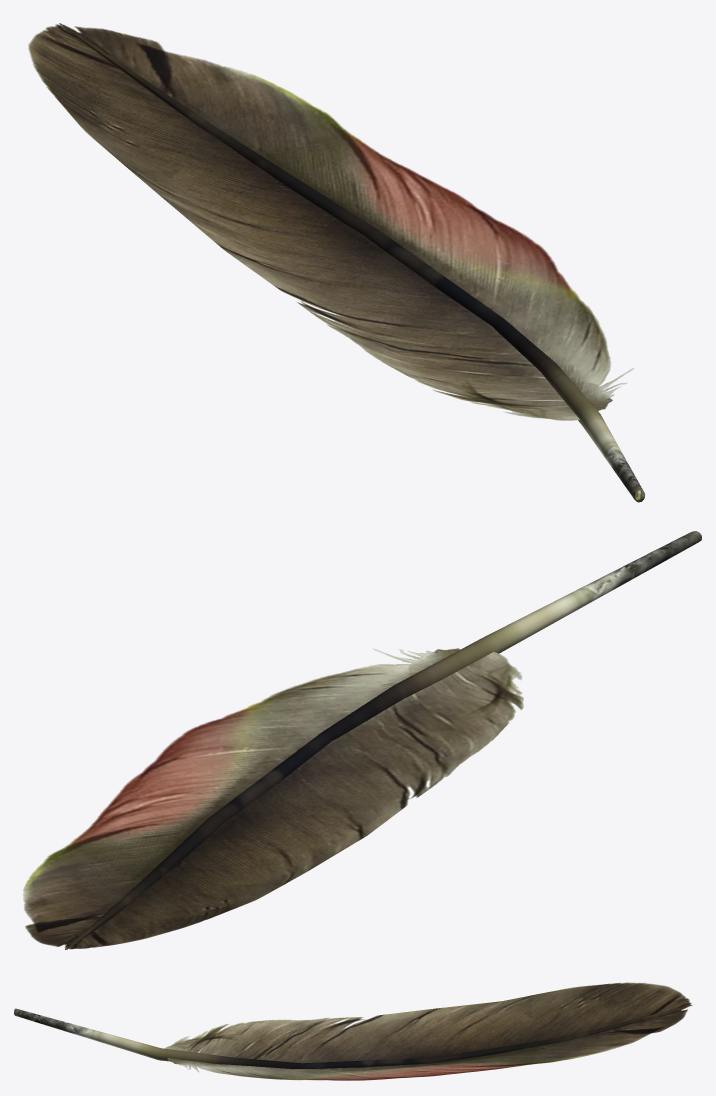
The model's file is quill.glb.
3 renders of one model, top to bottom at view 1: azimuth 30°, elevation 25°; view 2: azimuth 150°, elevation 25°; view 3: azimuth 270°, elevation 25°, orthographic. The views are drawn at different scales.
Visible parts, largest first — view 1: Quill_LP_01 - Default_0; view 2: Quill_LP_01 - Default_0; view 3: Quill_LP_01 - Default_0.
Boxes of the visible parts, bbox=[...] form: Quill_LP_01 - Default_0: bbox=[28, 23, 645, 502]; Quill_LP_01 - Default_0: bbox=[23, 531, 701, 949]; Quill_LP_01 - Default_0: bbox=[14, 982, 692, 1080].
Bounding box in the file's own units: 8.23 × 2.33 × 29.76.
Materials: 1 (1 with a texture image).
